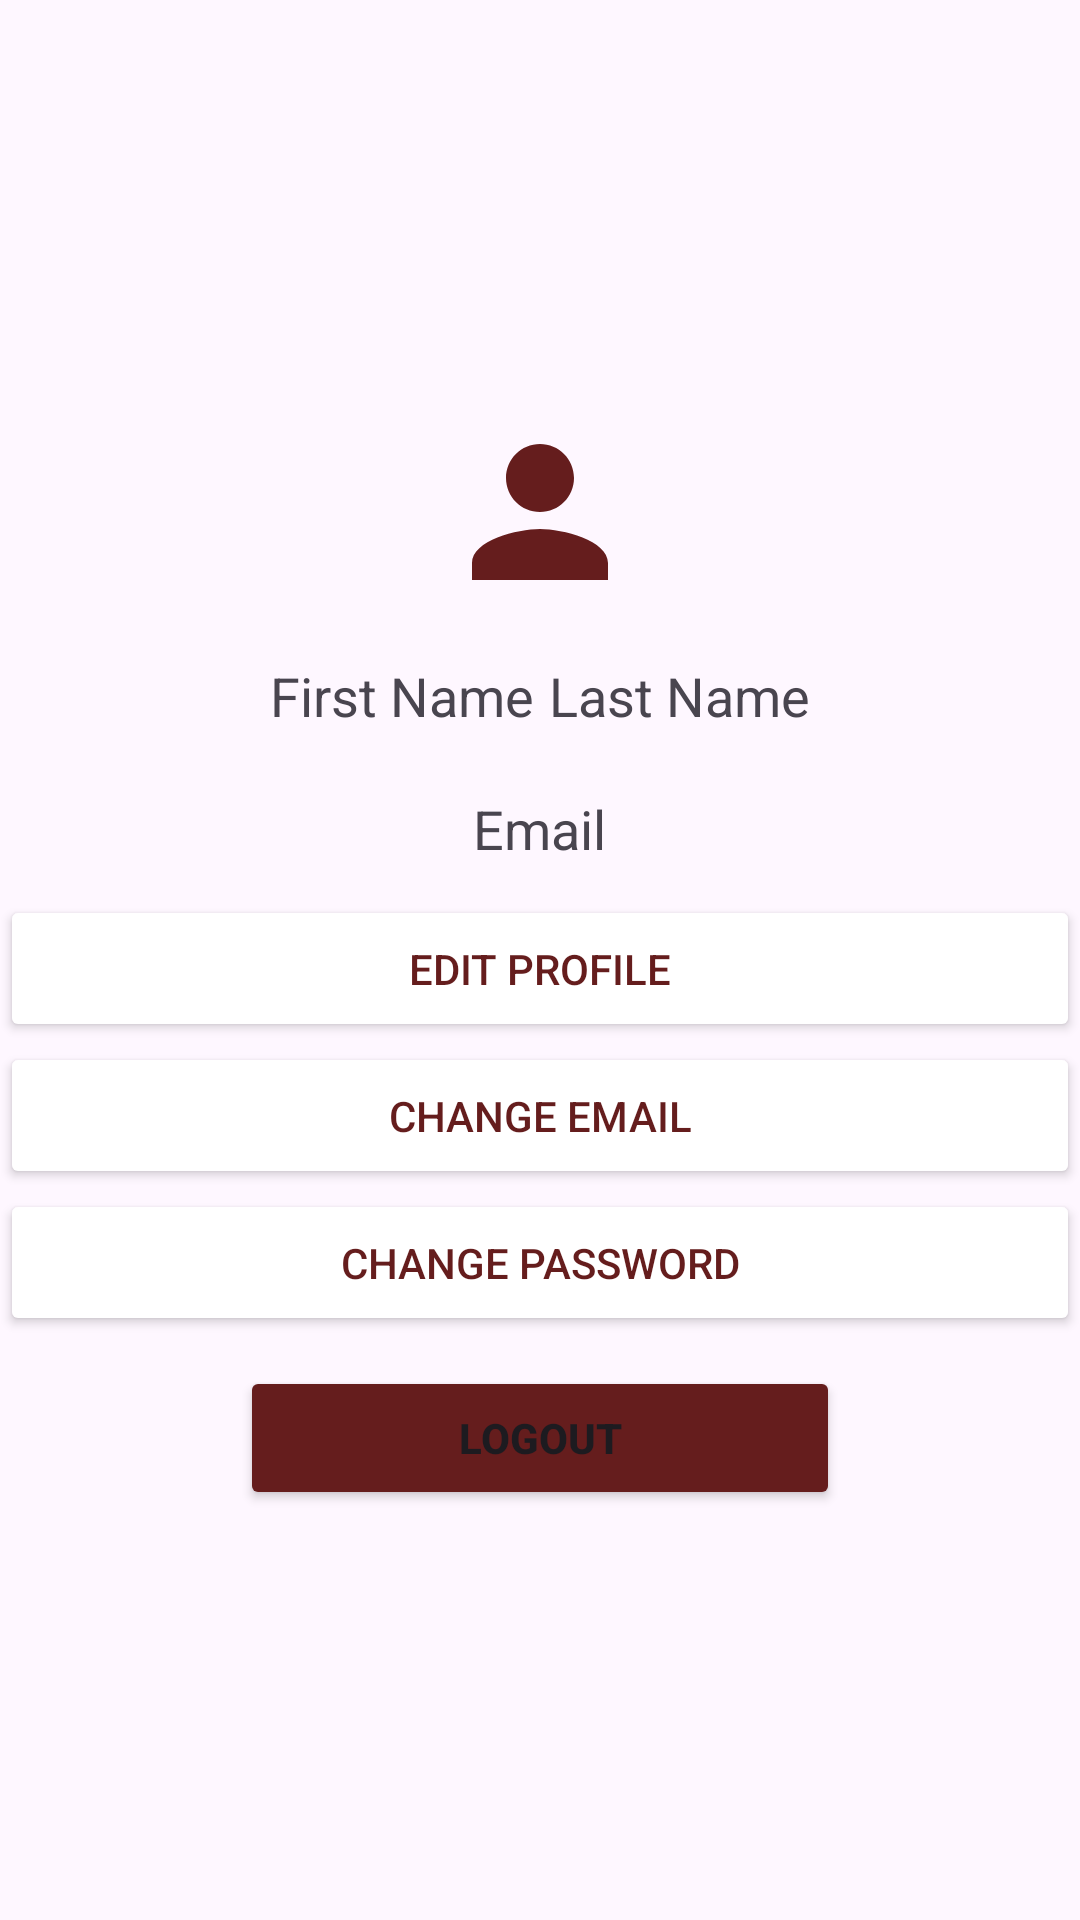

Screen size 1080*1920. Icon name, then its box in pixels as bbox(x1, y1, x2, y2):
Profile: bbox(472, 444, 608, 580)
